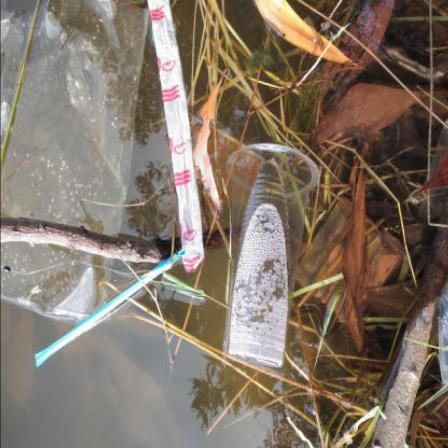Cup: (224, 145, 320, 369)
Plastic bag - wrapper: (1, 1, 151, 326), (148, 2, 205, 274), (418, 120, 448, 224), (440, 275, 448, 386)
Straw: (35, 248, 187, 368)
